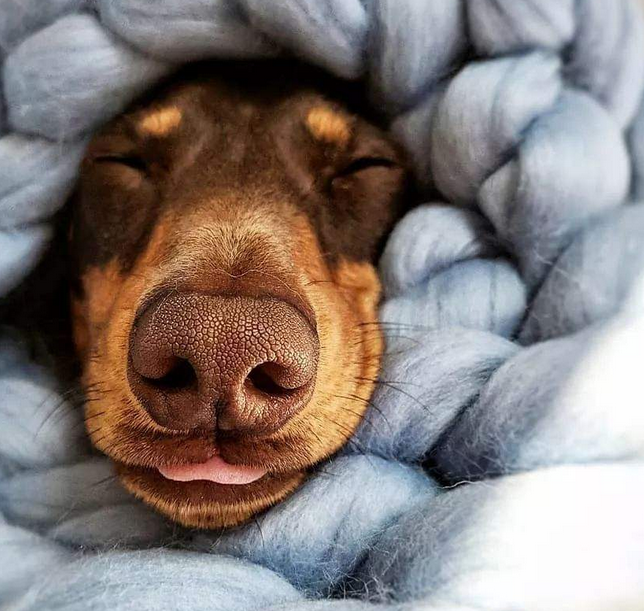nose: (126, 282, 325, 438)
